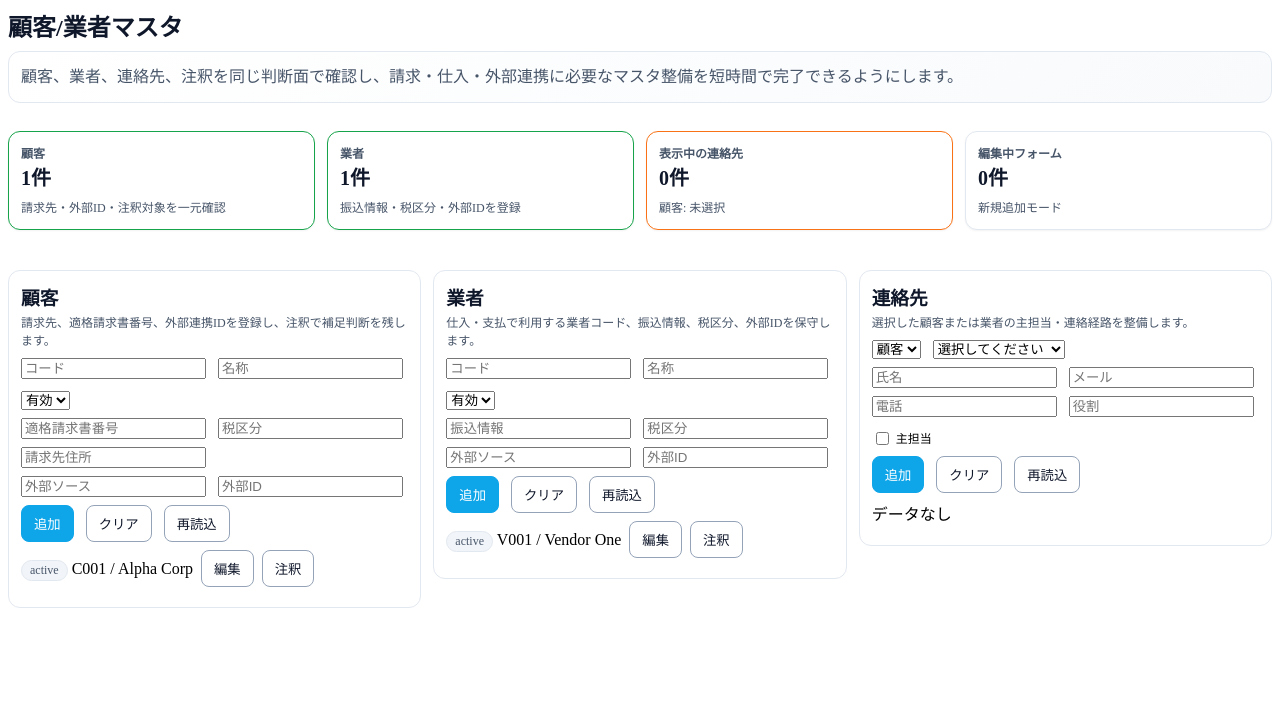
Test case: MasterData › shows an error when editing a contact without owner
Select "C001 / Alpha Corp" in the dropdown named "連絡先の紐付け先" at coordinates (999, 349), box [933,340,1065,359]
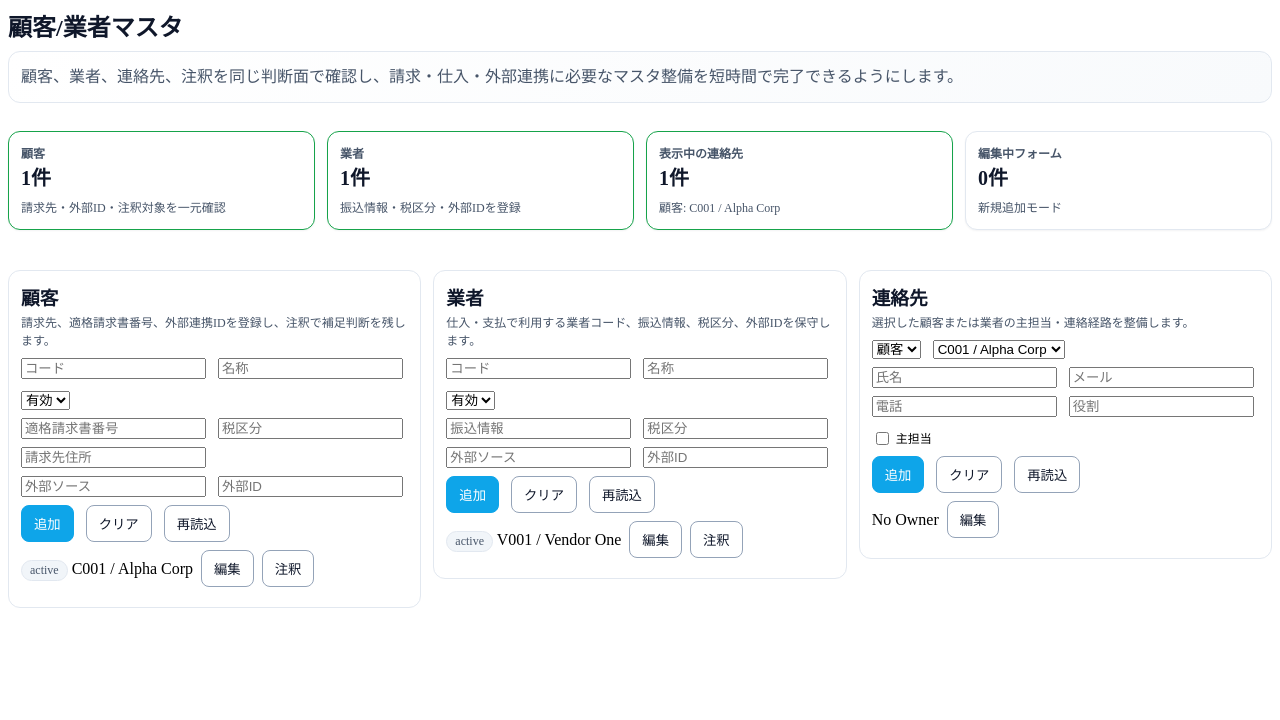
Check: the list item "No Owner" is shown, box [872,511,939,528]
Click the button "編集" next to "No Owner" at coordinates (973, 519), box [947,501,1000,538]
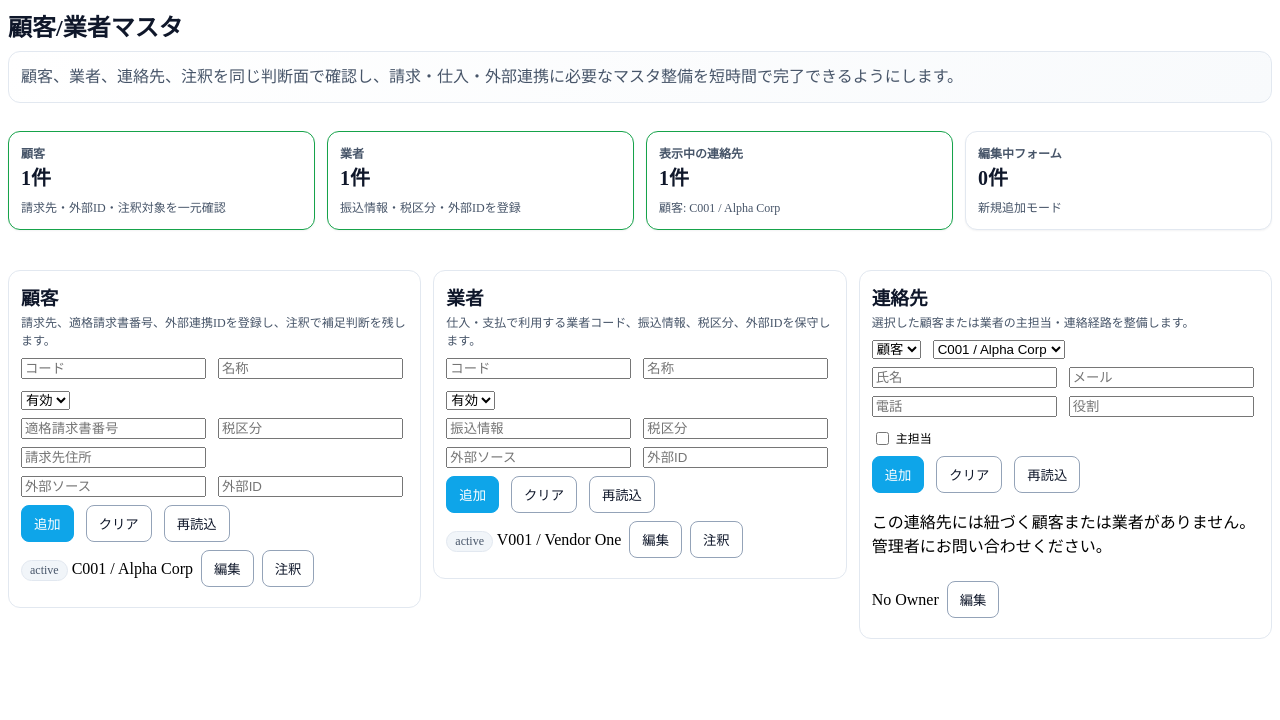
Check: the text "この連絡先には紐づく顧客または業者がありません。管理者にお問い合わせください。" is shown, box [872,509,1259,557]
